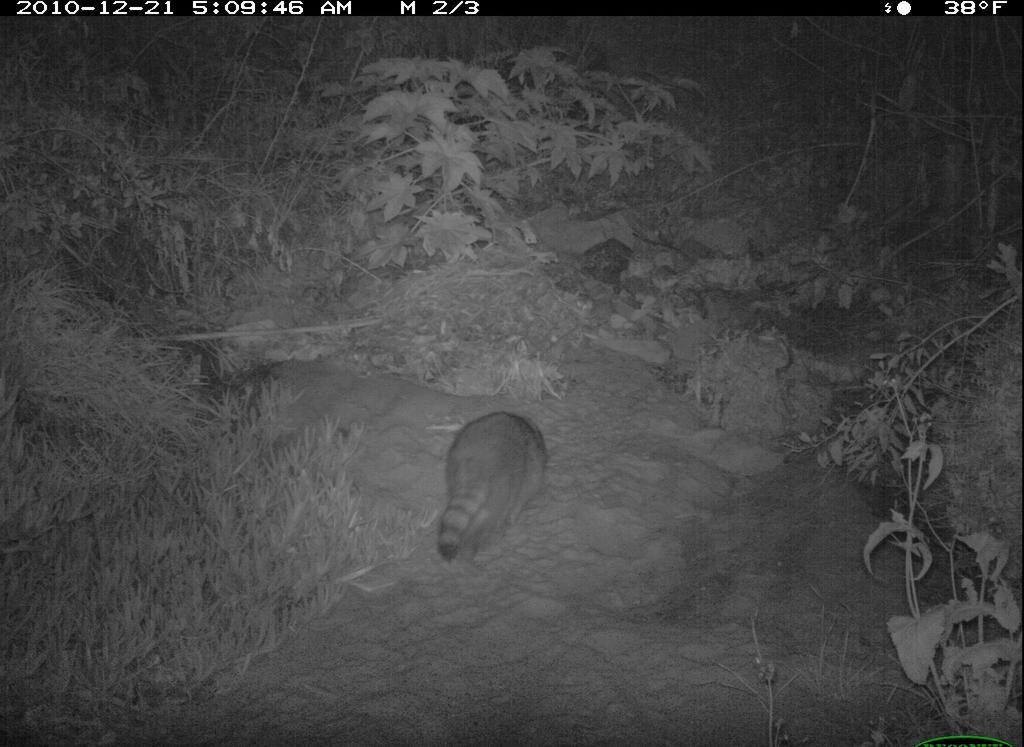raccoon: (415, 387, 564, 579)
